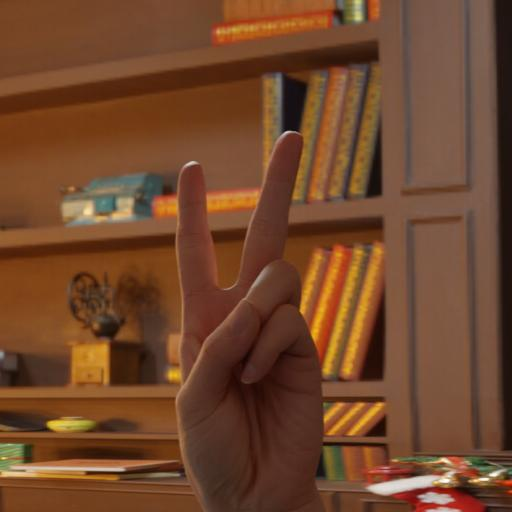V: (144, 109, 338, 512)
